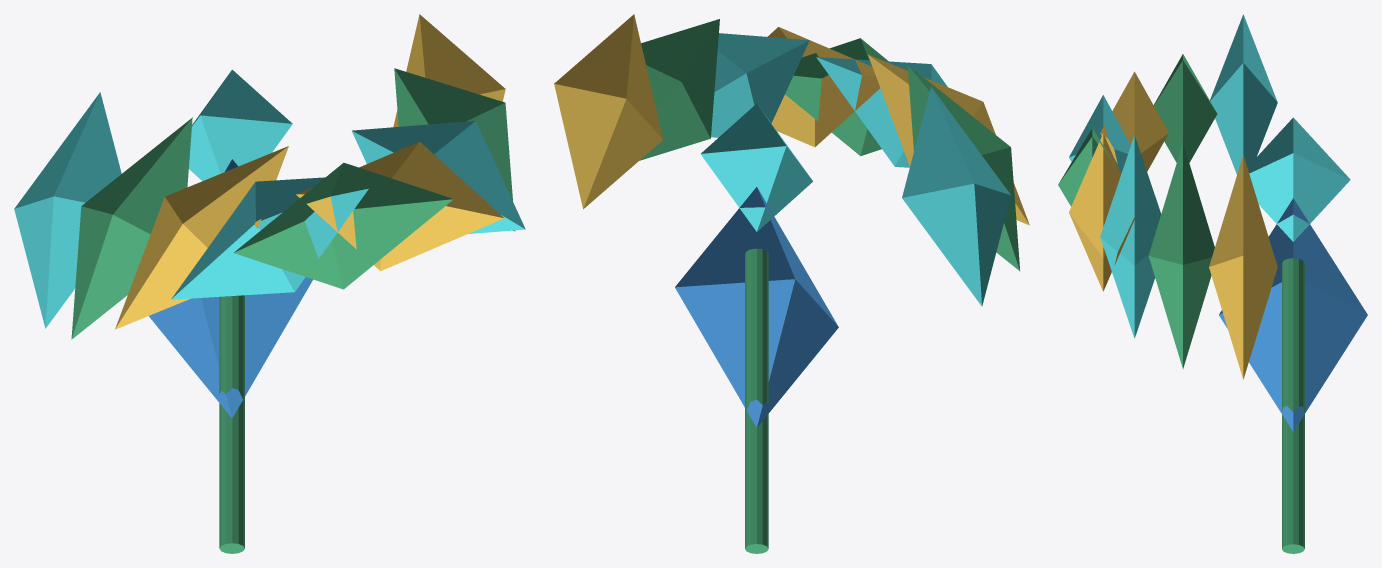
File: minglora_royal_peacock.gltf
3 renders of one model, left to right at view 1: azimuth 30°, elevation 25°; view 2: azimuth 150°, elevation 25°; view 3: azimuth 270°, elevation 25°, orthographic. The views are drawn at different scales.
Parts seen in each view (by area): view 1: minglora_royal_peacock_7, minglora_royal_peacock_10, minglora_royal_peacock_11, minglora_royal_peacock_9, minglora_royal_peacock_8, minglora_royal_peacock_0, minglora_royal_peacock_6, minglora_royal_peacock_1, minglora_royal_peacock_5, minglora_royal_peacock_2, minglora_royal_peacock_4, minglora_royal_peacock_3; view 2: minglora_royal_peacock_0, minglora_royal_peacock_11, minglora_royal_peacock_3, minglora_royal_peacock_4, minglora_royal_peacock_1, minglora_royal_peacock_2, minglora_royal_peacock_5, minglora_royal_peacock_10, minglora_royal_peacock_6, minglora_royal_peacock_8, minglora_royal_peacock_7, minglora_royal_peacock_9; view 3: minglora_royal_peacock_0, minglora_royal_peacock_3, minglora_royal_peacock_4, minglora_royal_peacock_1, minglora_royal_peacock_5, minglora_royal_peacock_2, minglora_royal_peacock_11, minglora_royal_peacock_6, minglora_royal_peacock_10, minglora_royal_peacock_9, minglora_royal_peacock_8, minglora_royal_peacock_7.
Boxes of the visible parts, x1,y1,x2,y2 form: minglora_royal_peacock_7: (234, 162, 453, 289); minglora_royal_peacock_10: (71, 117, 192, 339); minglora_royal_peacock_11: (14, 92, 121, 328); minglora_royal_peacock_9: (115, 146, 288, 329); minglora_royal_peacock_8: (171, 177, 368, 299); minglora_royal_peacock_0: (149, 159, 313, 418); minglora_royal_peacock_6: (296, 141, 504, 271); minglora_royal_peacock_1: (189, 69, 292, 180); minglora_royal_peacock_5: (352, 121, 525, 233); minglora_royal_peacock_2: (219, 295, 244, 553); minglora_royal_peacock_4: (394, 68, 515, 231); minglora_royal_peacock_3: (393, 14, 505, 127); minglora_royal_peacock_0: (675, 187, 838, 427); minglora_royal_peacock_11: (902, 87, 1010, 306); minglora_royal_peacock_3: (554, 14, 663, 209); minglora_royal_peacock_4: (639, 19, 719, 160); minglora_royal_peacock_1: (700, 103, 812, 231); minglora_royal_peacock_2: (745, 248, 768, 553); minglora_royal_peacock_5: (711, 33, 809, 137); minglora_royal_peacock_10: (907, 65, 1020, 271); minglora_royal_peacock_6: (767, 27, 880, 147); minglora_royal_peacock_8: (816, 57, 947, 167); minglora_royal_peacock_7: (785, 38, 888, 156); minglora_royal_peacock_9: (868, 54, 1029, 225); minglora_royal_peacock_0: (1219, 198, 1367, 431); minglora_royal_peacock_3: (1209, 155, 1277, 379); minglora_royal_peacock_4: (1148, 143, 1214, 368); minglora_royal_peacock_1: (1247, 117, 1350, 241); minglora_royal_peacock_5: (1100, 135, 1161, 338); minglora_royal_peacock_2: (1282, 258, 1304, 553); minglora_royal_peacock_11: (1210, 14, 1277, 174); minglora_royal_peacock_6: (1069, 133, 1136, 291); minglora_royal_peacock_10: (1153, 54, 1217, 162); minglora_royal_peacock_9: (1100, 71, 1168, 171); minglora_royal_peacock_8: (1069, 95, 1130, 173); minglora_royal_peacock_7: (1058, 128, 1114, 206).
Size of the model in its own units: 1.78 by 1.79 by 1.08.
